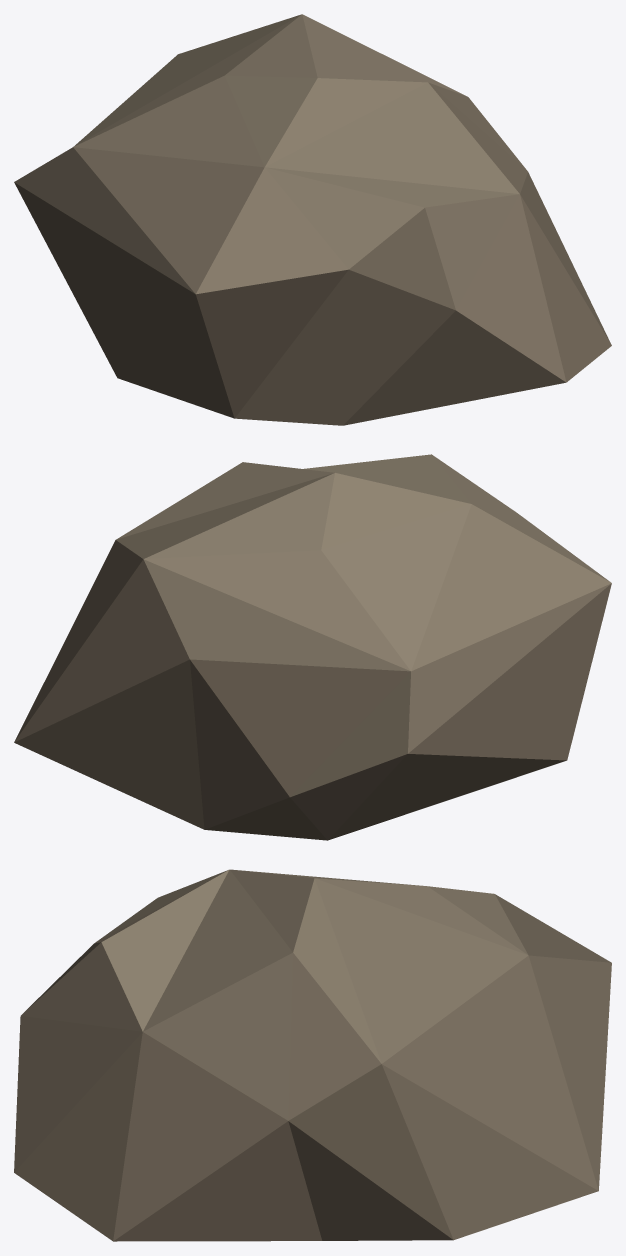
Rendered from RockB.glb.
3 views of the same model, one above another, from view 1: azimuth 30°, elevation 25°; view 2: azimuth 150°, elevation 25°; view 3: azimuth 270°, elevation 25° (orthographic). The views are drawn at different scales.
Visible parts, largest first — view 1: RockB.001; view 2: RockB.001; view 3: RockB.001.
Boxes of the visible parts, left/top/right/bottom form: RockB.001: left=14, top=14, right=611, bottom=425; RockB.001: left=14, top=454, right=611, bottom=840; RockB.001: left=14, top=869, right=611, bottom=1241.
Bounding box in the file's own units: 0.8925 × 0.4901 × 1.01.
